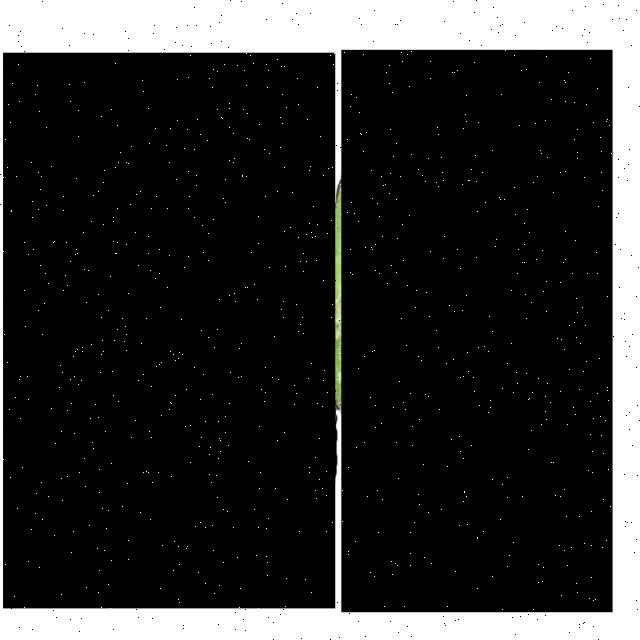Avocado: (4, 54, 336, 609), (342, 50, 613, 612)
